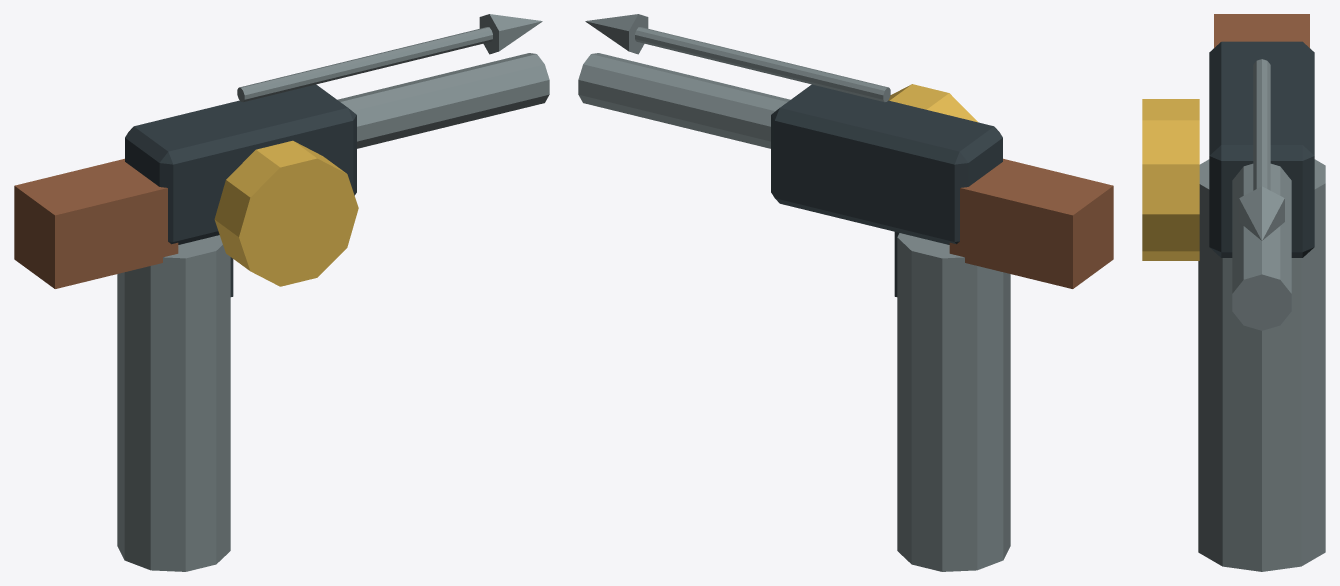
The model's file is DeadRail_Weapon_Mount.fbx.
3 renders of one model, left to right at view 1: azimuth 30°, elevation 25°; view 2: azimuth 150°, elevation 25°; view 3: azimuth 270°, elevation 25°, orthographic. The views are drawn at different scales.
Visible parts, largest first — view 1: Weapon_Pedestal.002, Weapon_Receiver.002, Weapon_Stock.002, Harpoon_Spool.002, Weapon_Barrel.002, Harpoon_Bolt.002, Harpoon_Tip.002; view 2: Weapon_Pedestal.002, Weapon_Receiver.002, Weapon_Stock.002, Weapon_Barrel.002, Harpoon_Bolt.002, Harpoon_Spool.002, Harpoon_Tip.002; view 3: Weapon_Pedestal.002, Weapon_Receiver.002, Harpoon_Spool.002, Weapon_Barrel.002, Weapon_Stock.002, Harpoon_Bolt.002, Harpoon_Tip.002.
Boxes of the visible parts, x1,y1,x2,y2 form: Weapon_Pedestal.002: (117,235,230,571); Weapon_Receiver.002: (125,84,356,244); Weapon_Stock.002: (14,158,178,288); Harpoon_Spool.002: (214,140,358,286); Weapon_Barrel.002: (337,53,549,148); Harpoon_Bolt.002: (237,27,492,102); Harpoon_Tip.002: (479,14,542,54); Weapon_Pedestal.002: (897,233,1010,571); Weapon_Receiver.002: (771,84,1002,244); Weapon_Stock.002: (949,158,1113,288); Weapon_Barrel.002: (578,53,790,148); Harpoon_Bolt.002: (635,27,890,102); Harpoon_Spool.002: (888,84,977,122); Harpoon_Tip.002: (585,14,648,54); Weapon_Pedestal.002: (1198,159,1325,571); Weapon_Receiver.002: (1209,41,1314,257); Harpoon_Spool.002: (1142,99,1199,260); Weapon_Barrel.002: (1232,163,1291,330); Weapon_Stock.002: (1214,14,1309,47); Harpoon_Bolt.002: (1253,59,1270,190); Harpoon_Tip.002: (1239,186,1284,240).
Bounding box in the file's own units: 1.44 × 1.24 × 0.3831.
